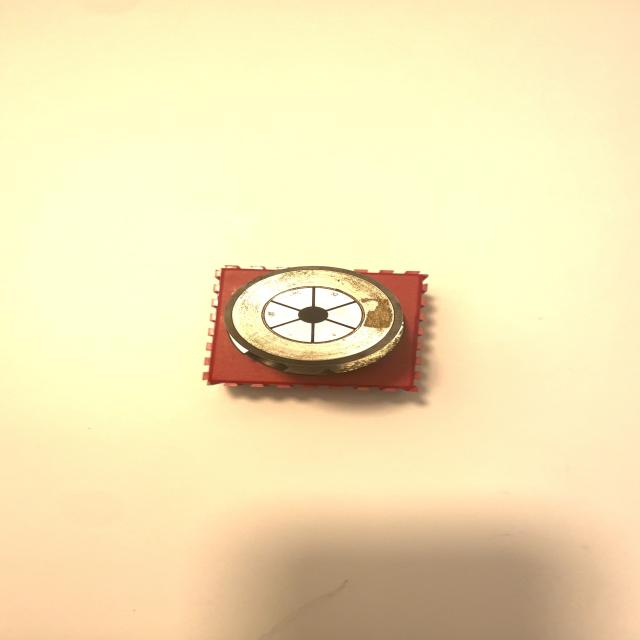Filled_Slot: (223, 266, 404, 375)
